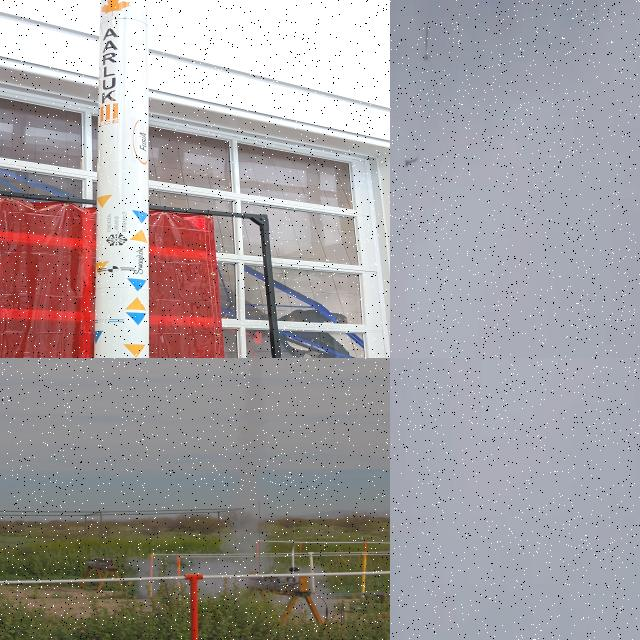Rocket: (93, 0, 150, 358), (288, 546, 300, 573), (406, 155, 418, 167)
